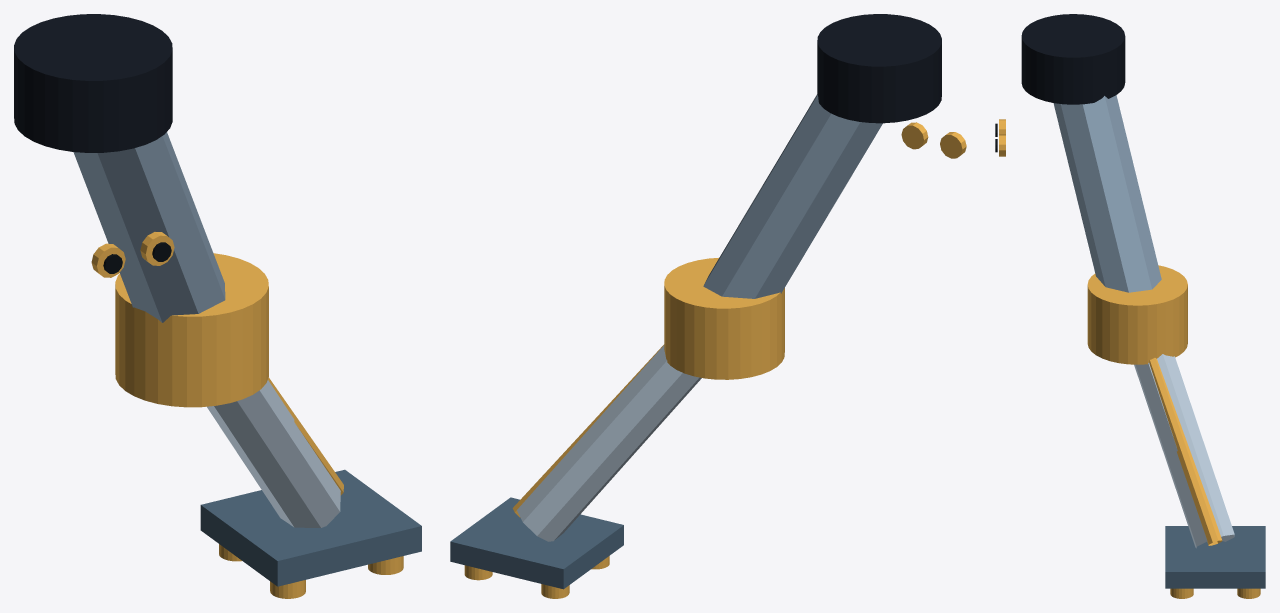
Rendered from 22_L92_ArticulatedLandingLegE.fbx.
3 views of the same model, side by side, from view 1: azimuth 30°, elevation 25°; view 2: azimuth 150°, elevation 25°; view 3: azimuth 270°, elevation 25° (orthographic). The views are drawn at different scales.
Parts seen in each view (by area): view 1: L92_ArticulatedLandingLegE_Part_0002, L92_ArticulatedLandingLegE_Part_0003, L92_ArticulatedLandingLegE_Part_0000, L92_ArticulatedLandingLegE_Part_0005, L92_ArticulatedLandingLegE_Part_0004, L92_ArticulatedLandingLegE_Part_0006, L92_ArticulatedLandingLegE_Part_0007, L92_ArticulatedLandingLegE_Part_0009; view 2: L92_ArticulatedLandingLegE_Part_0000, L92_ArticulatedLandingLegE_Part_0002, L92_ArticulatedLandingLegE_Part_0003, L92_ArticulatedLandingLegE_Part_0004, L92_ArticulatedLandingLegE_Part_0005, L92_ArticulatedLandingLegE_Part_0006; view 3: L92_ArticulatedLandingLegE_Part_0000, L92_ArticulatedLandingLegE_Part_0003, L92_ArticulatedLandingLegE_Part_0002, L92_ArticulatedLandingLegE_Part_0004, L92_ArticulatedLandingLegE_Part_0005, L92_ArticulatedLandingLegE_Part_0006.
Part boxes in pixels (x1=…): L92_ArticulatedLandingLegE_Part_0002: x1=14, y1=14, x2=172, y2=152; L92_ArticulatedLandingLegE_Part_0003: x1=115, y1=253, x2=343, y2=495; L92_ArticulatedLandingLegE_Part_0000: x1=73, y1=132, x2=225, y2=322; L92_ArticulatedLandingLegE_Part_0005: x1=200, y1=469, x2=421, y2=586; L92_ArticulatedLandingLegE_Part_0004: x1=207, y1=380, x2=340, y2=527; L92_ArticulatedLandingLegE_Part_0006: x1=219, y1=544, x2=403, y2=598; L92_ArticulatedLandingLegE_Part_0007: x1=91, y1=243, x2=125, y2=277; L92_ArticulatedLandingLegE_Part_0009: x1=140, y1=232, x2=174, y2=265; L92_ArticulatedLandingLegE_Part_0000: x1=703, y1=94, x2=882, y2=298; L92_ArticulatedLandingLegE_Part_0002: x1=817, y1=14, x2=941, y2=123; L92_ArticulatedLandingLegE_Part_0003: x1=512, y1=258, x2=784, y2=517; L92_ArticulatedLandingLegE_Part_0004: x1=517, y1=345, x2=701, y2=541; L92_ArticulatedLandingLegE_Part_0005: x1=450, y1=497, x2=623, y2=589; L92_ArticulatedLandingLegE_Part_0006: x1=464, y1=556, x2=609, y2=598; L92_ArticulatedLandingLegE_Part_0000: x1=1053, y1=95, x2=1161, y2=292; L92_ArticulatedLandingLegE_Part_0003: x1=1087, y1=265, x2=1222, y2=545; L92_ArticulatedLandingLegE_Part_0002: x1=1021, y1=14, x2=1125, y2=104; L92_ArticulatedLandingLegE_Part_0004: x1=1134, y1=354, x2=1234, y2=548; L92_ArticulatedLandingLegE_Part_0005: x1=1165, y1=526, x2=1265, y2=588; L92_ArticulatedLandingLegE_Part_0006: x1=1170, y1=588, x2=1260, y2=598.
Size of the model in its own units: 211 by 290 by 162.
